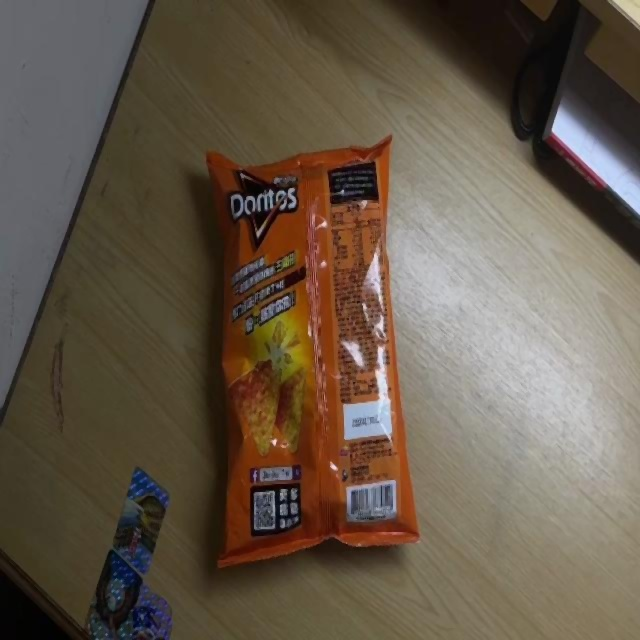Doritos: (207, 135, 421, 573)
